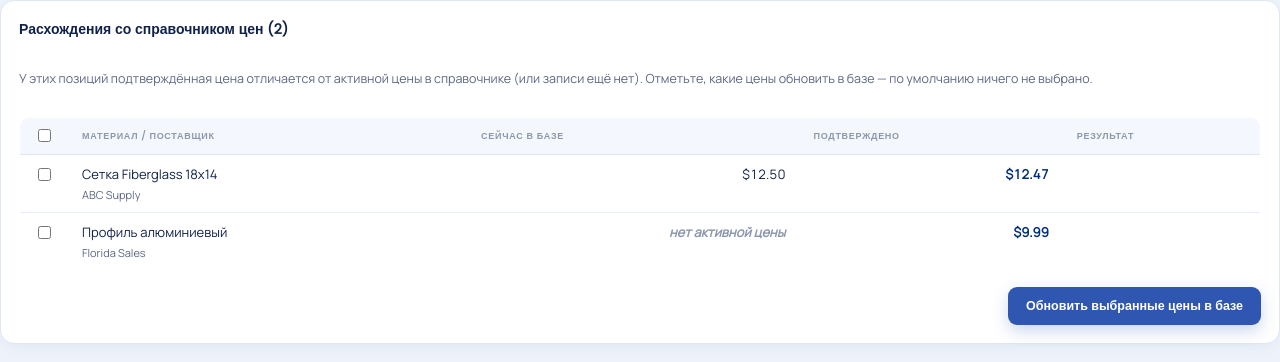
it: PriceUpdateBatchScreen › select-all header checkbox checks every row, unchecking it clears every row
Click the checkbox named "Выбрать все строки".
click(44, 136)  # box [38,129,51,142]
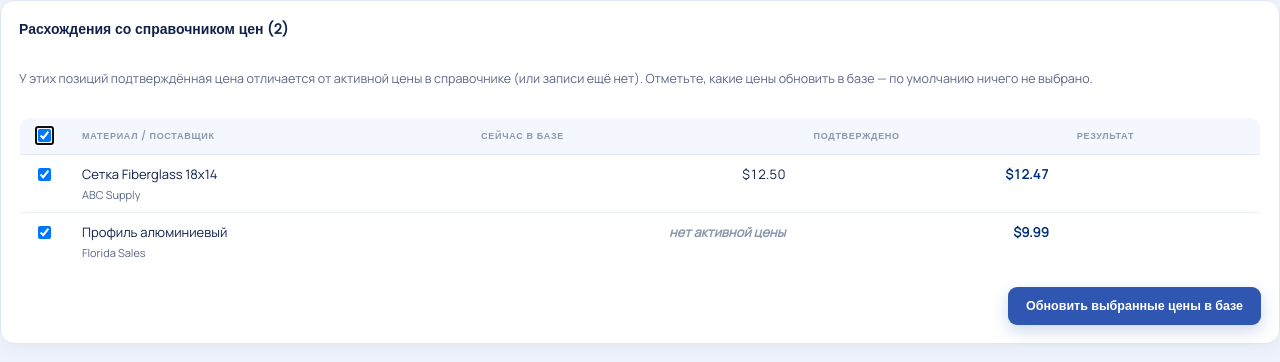
Check: the checkbox named "Выбрать все строки" is checked
Check: the checkbox next to "Сетка Fiberglass 18x14" is checked, box [38,168,51,181]
Check: the checkbox next to "Профиль алюминиевый" is checked, box [38,226,51,239]
Click the checkbox named "Выбрать все строки".
click(44, 136)  # box [38,129,51,142]
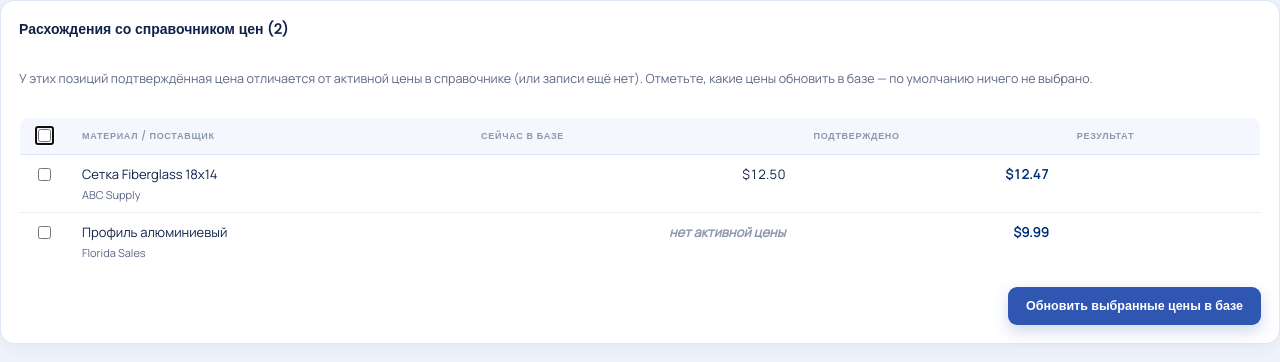
Check: the checkbox next to "Сетка Fiberglass 18x14" is not checked, box [38,168,51,181]
Check: the checkbox next to "Профиль алюминиевый" is not checked, box [38,226,51,239]
